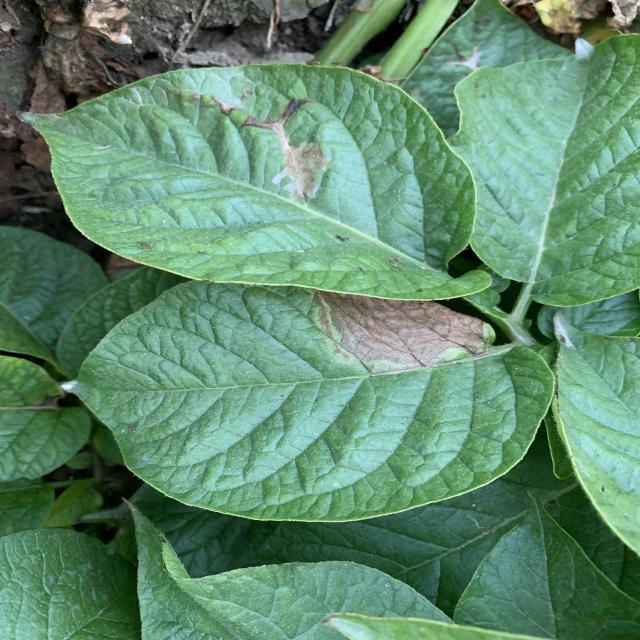lateblight: (313, 291, 495, 372), (242, 99, 330, 200), (212, 96, 240, 115)
